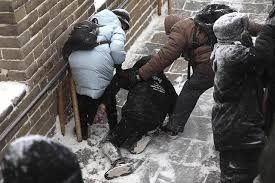falling: (102, 51, 177, 151)
